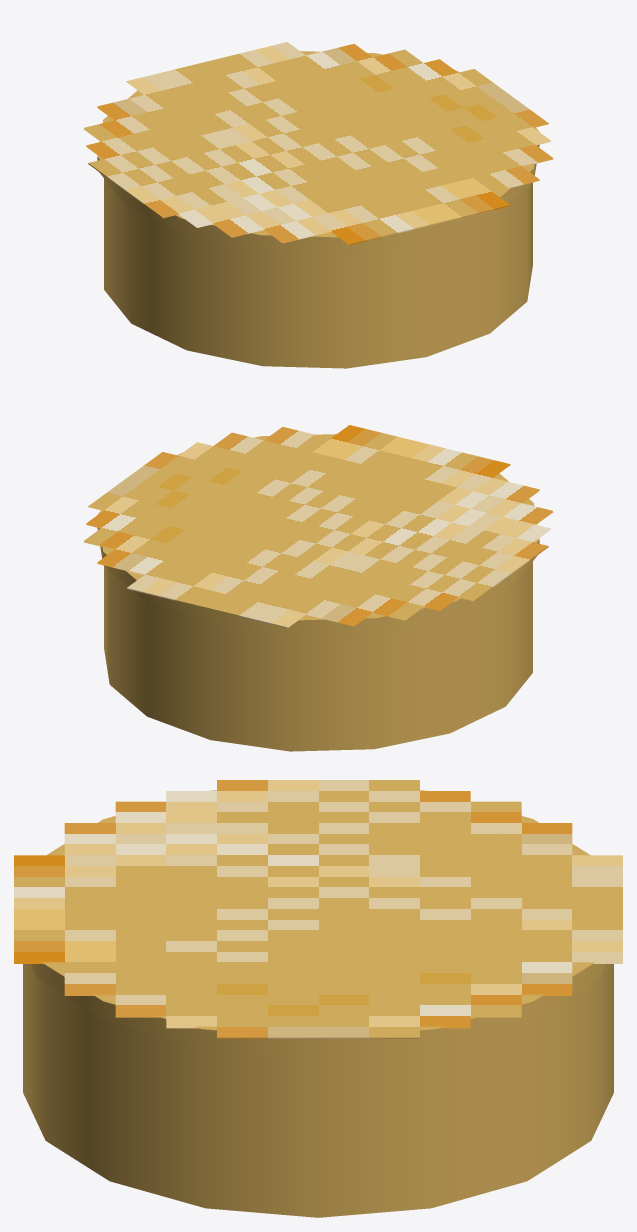
Rendered from CMU3DBakedCakeCarrot.glb.
The picture shows the model from 3 angles, top to bottom: view 1: azimuth 30°, elevation 25°; view 2: azimuth 150°, elevation 25°; view 3: azimuth 270°, elevation 25°; orthographic projection. The views are drawn at different scales.
Parts seen in each view (by area): view 1: original top filling and decoration, whole cake crumb body, frosted top edge; view 2: original top filling and decoration, whole cake crumb body, frosted top edge; view 3: original top filling and decoration, whole cake crumb body, frosted top edge.
Part boxes in pixels (x1,y1,x2,y2): original top filling and decoration: [83, 42, 553, 245]; whole cake crumb body: [104, 178, 532, 368]; frosted top edge: [97, 51, 539, 251]; original top filling and decoration: [83, 425, 553, 628]; whole cake crumb body: [104, 561, 532, 751]; frosted top edge: [97, 434, 539, 634]; original top filling and decoration: [14, 780, 622, 1038]; whole cake crumb body: [23, 964, 613, 1217]; frosted top edge: [30, 790, 606, 1057].
Size of the model in its own units: 0.74 by 0.247 by 0.74.
Materials: 3 (1 with a texture image).
